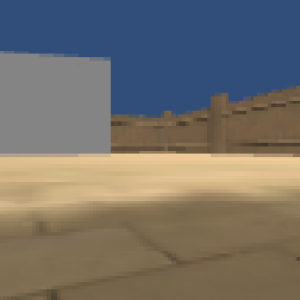wall: (1, 48, 110, 155)
